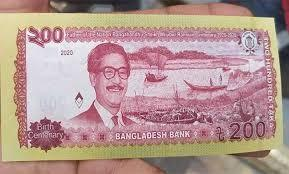200 tk: (0, 14, 283, 147)
